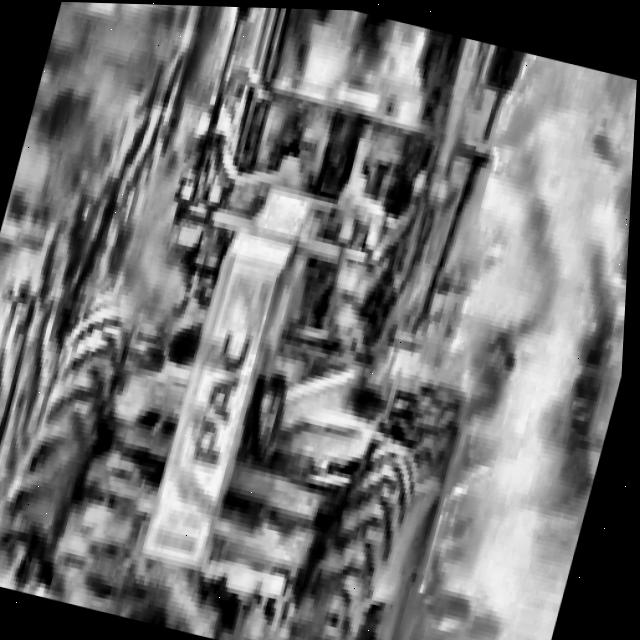buldozerpayloadergrader: (0, 0, 560, 640)
